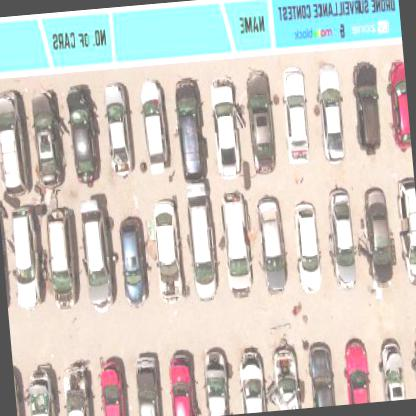car: (185, 184, 222, 302), (80, 199, 115, 313), (31, 85, 66, 197), (6, 206, 42, 309), (221, 190, 254, 300), (43, 205, 76, 313), (152, 196, 185, 304), (324, 186, 358, 290), (246, 69, 278, 177), (174, 77, 207, 181), (68, 88, 102, 184), (362, 187, 394, 288), (280, 68, 311, 169), (315, 64, 346, 163), (350, 63, 384, 153), (118, 216, 150, 310), (209, 80, 240, 177), (104, 84, 135, 180), (0, 90, 27, 199), (258, 196, 288, 294), (293, 202, 323, 294), (138, 81, 167, 174), (268, 339, 303, 410), (199, 348, 236, 415), (385, 60, 411, 152), (166, 349, 201, 415), (340, 336, 372, 404), (59, 360, 97, 415), (22, 363, 62, 415), (131, 352, 164, 415), (397, 176, 415, 290), (95, 357, 130, 415), (235, 349, 266, 413), (306, 343, 336, 407), (378, 340, 406, 400), (409, 338, 415, 398)
